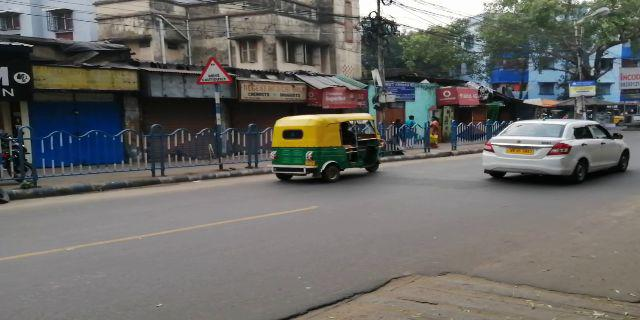Autorickshaw: (273, 116, 386, 184)
Car: (482, 119, 632, 186)
